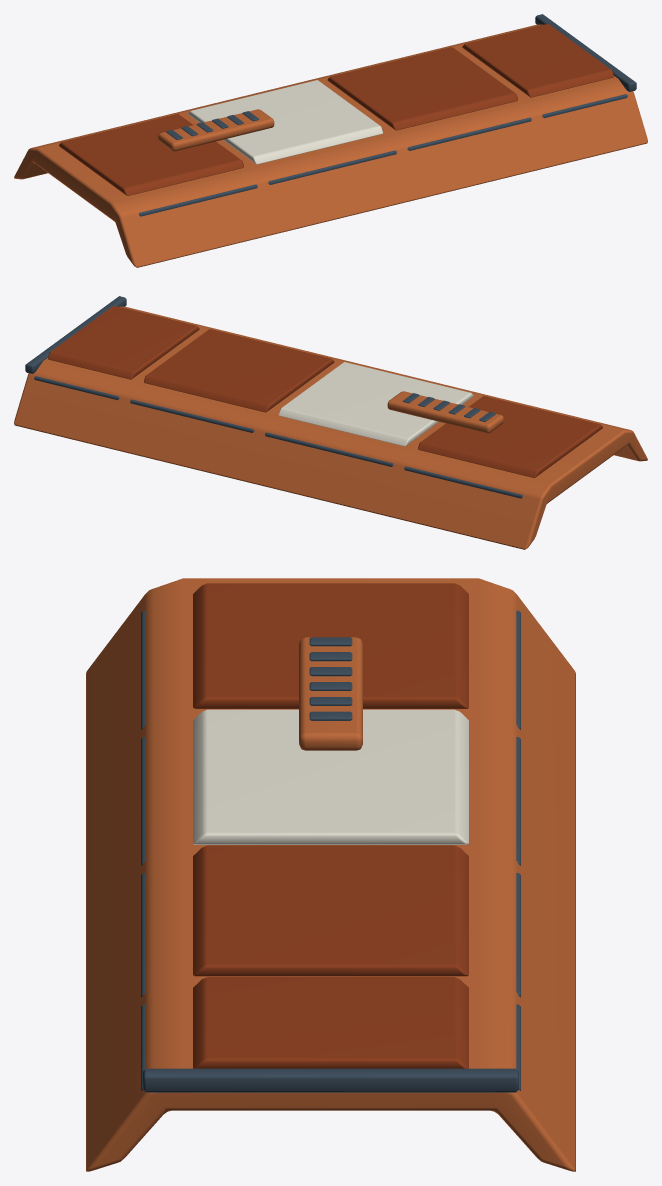
The model's file is SM_SSTO_Roof.fbx.
3 views of the same model, one above another, from view 1: azimuth 30°, elevation 25°; view 2: azimuth 150°, elevation 25°; view 3: azimuth 270°, elevation 25° (orthographic). The views are drawn at different scales.
Visible parts, largest first — view 1: SM_SSTO_Roof; view 2: SM_SSTO_Roof; view 3: SM_SSTO_Roof.
Part boxes in pixels (x1,y1,x2,y2): SM_SSTO_Roof: (14,14,647,267); SM_SSTO_Roof: (14,296,647,549); SM_SSTO_Roof: (86,578,575,1171).
Size of the model in its own units: 1422 by 584 by 171.
